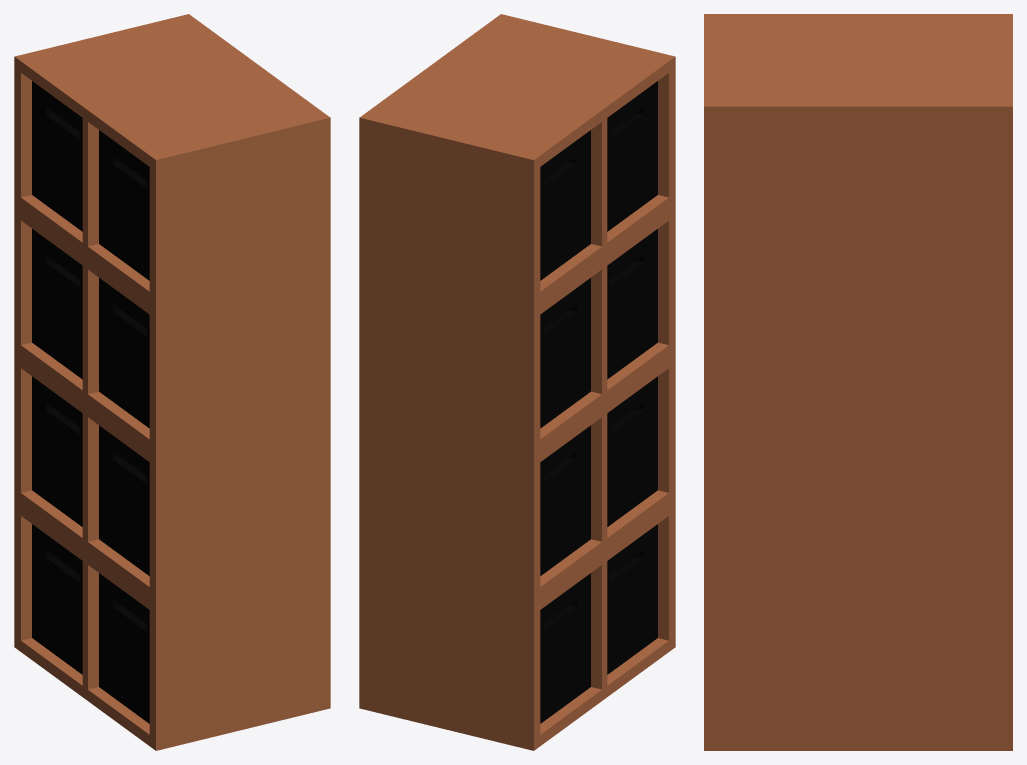
The model's file is VisioDrawers2x4.fbx.
3 renders of one model, left to right at view 1: azimuth 30°, elevation 25°; view 2: azimuth 150°, elevation 25°; view 3: azimuth 270°, elevation 25°, orthographic. The views are drawn at different scales.
Visible parts, largest first — view 1: Drawers2x4; view 2: Drawers2x4; view 3: Drawers2x4.
Part boxes in pixels (<box>): Drawers2x4: <box>14,14,330,750</box>; Drawers2x4: <box>359,14,675,750</box>; Drawers2x4: <box>704,14,1012,750</box>.
Bounding box in the file's own units: 2.37 × 7.66 × 3.33.
